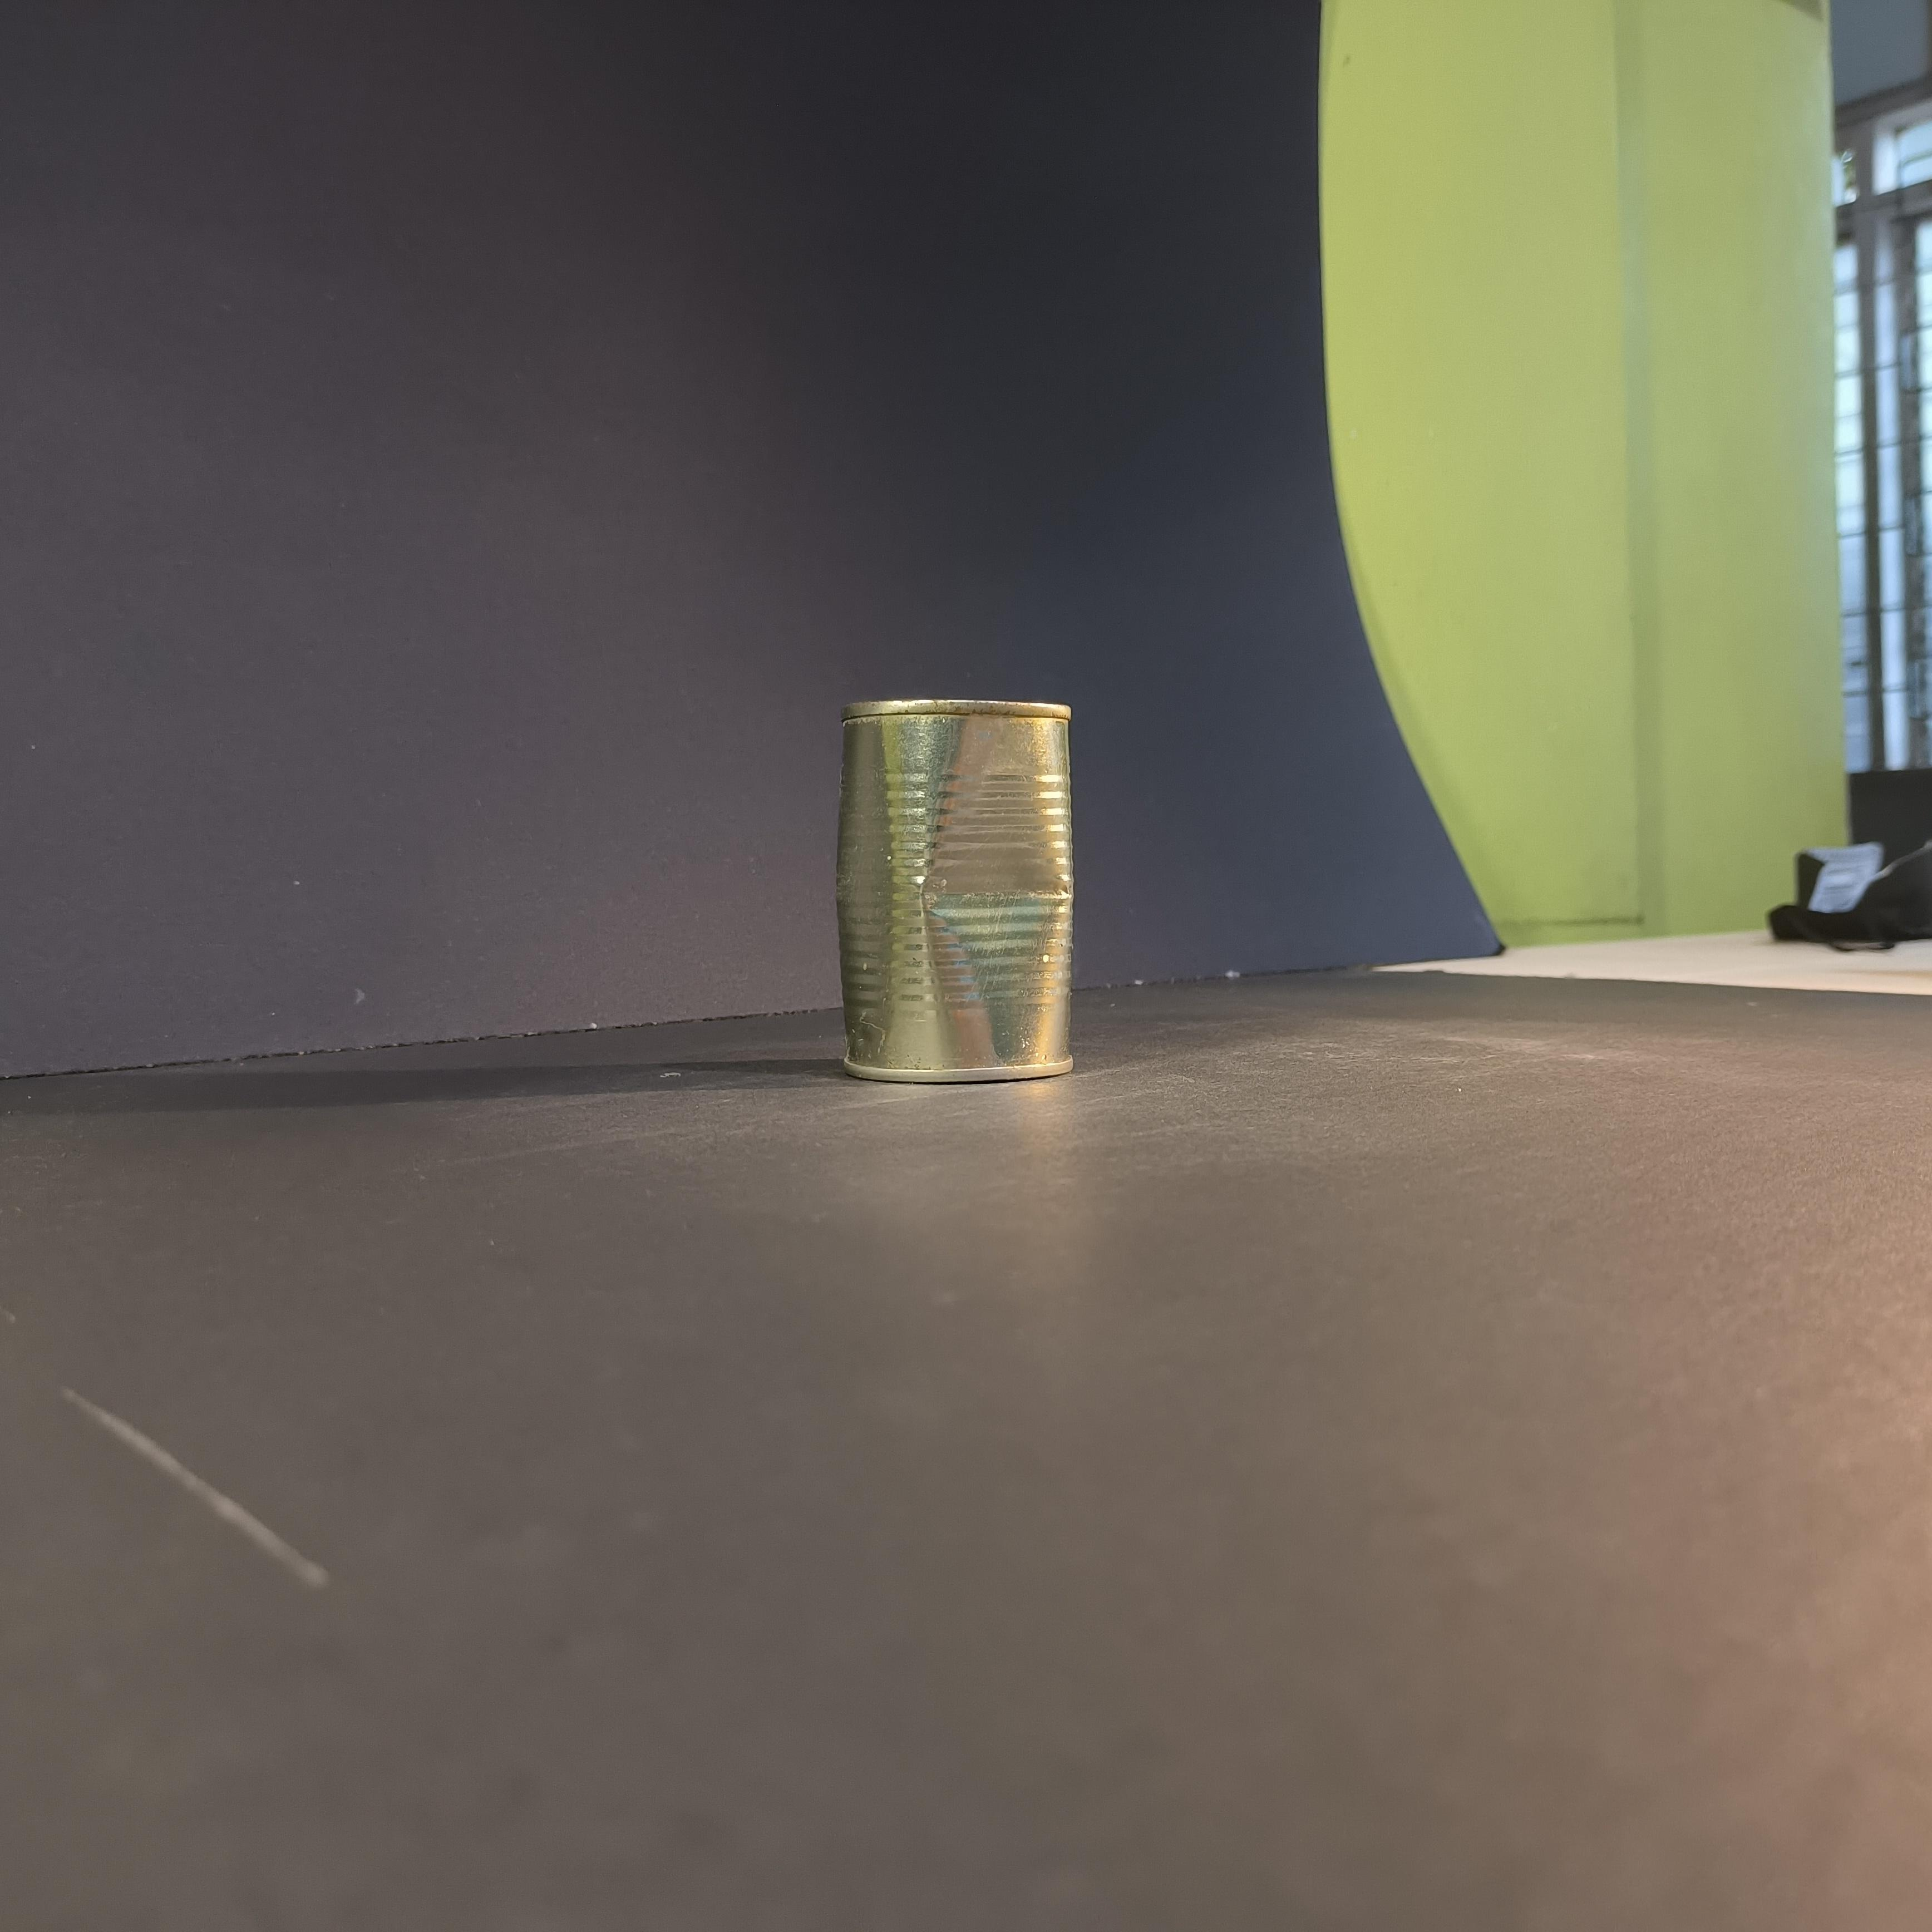Dented: (821, 674, 1097, 1108)
